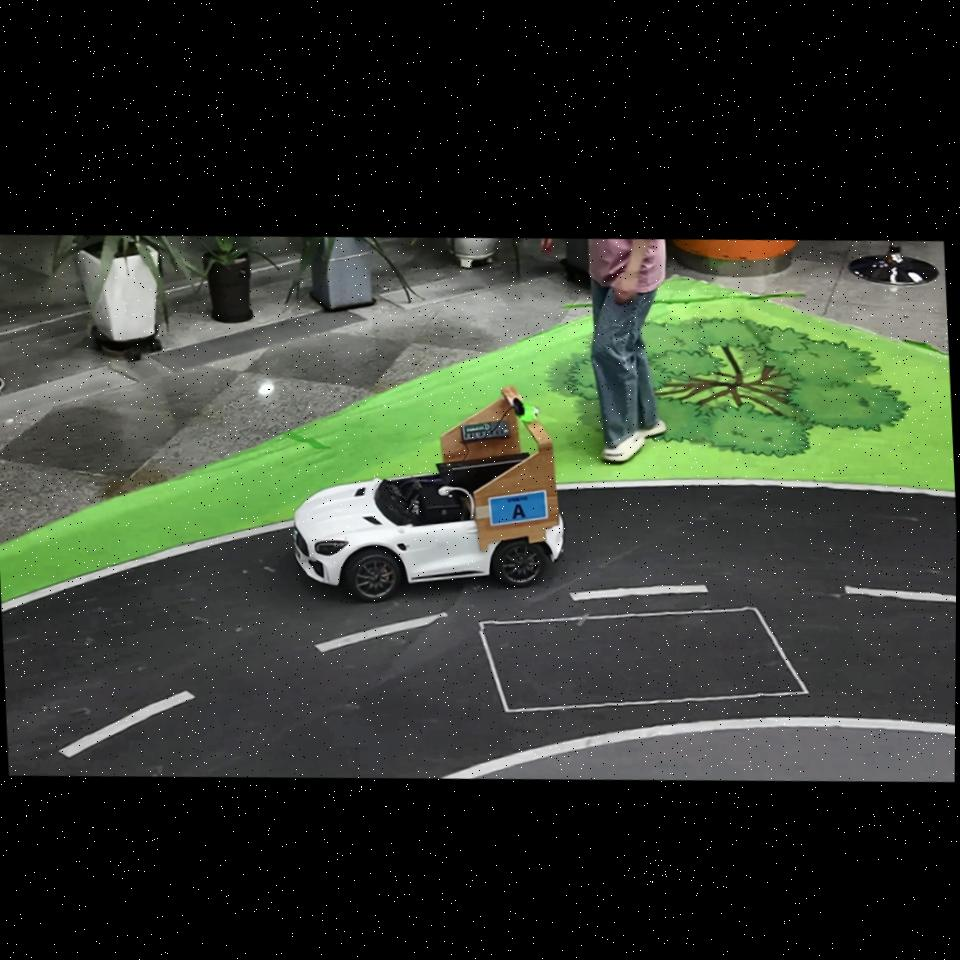broken_line: (59, 691, 195, 757), (315, 611, 449, 652), (571, 585, 708, 601), (845, 586, 956, 603)
